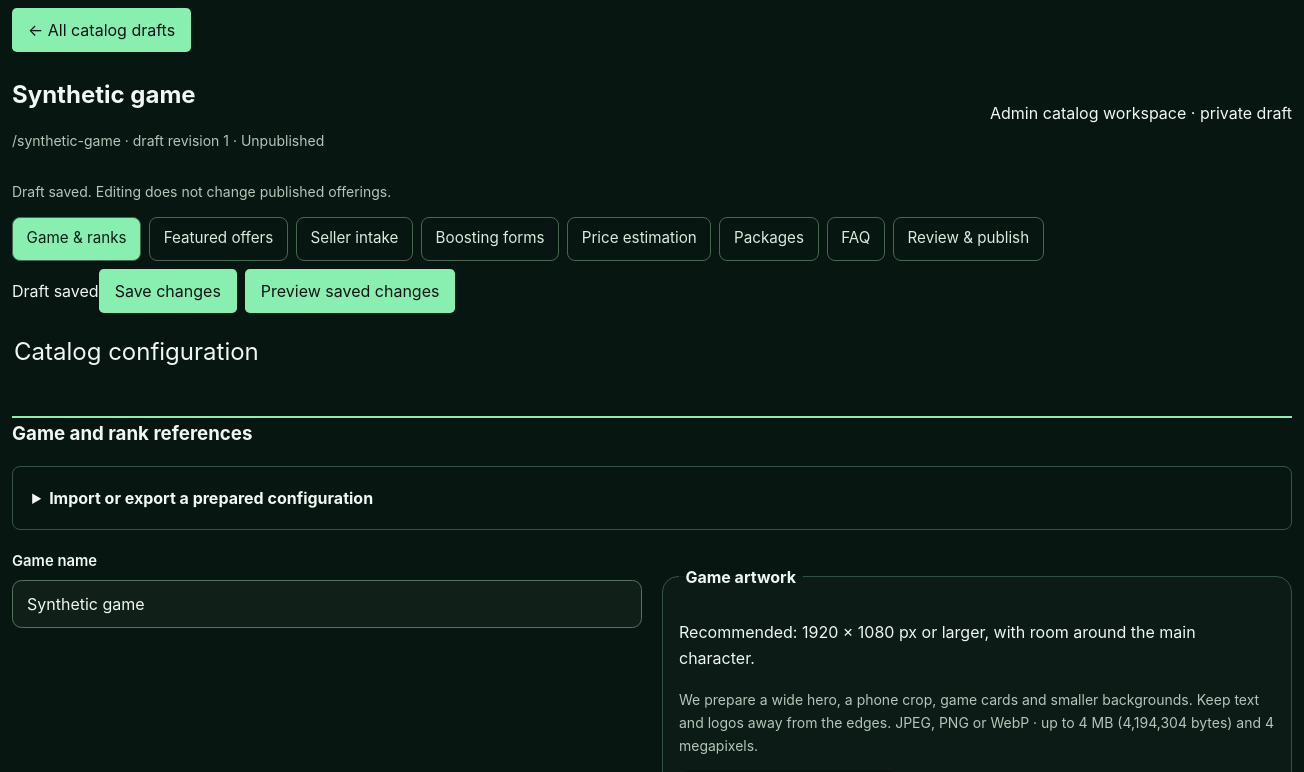
Test: focuses a failed save result while retaining the exact section and draft
Step 1. Replace the text in the field labelled "Game name" with "Retain this draft" → [327, 604], box [12,580,642,628]
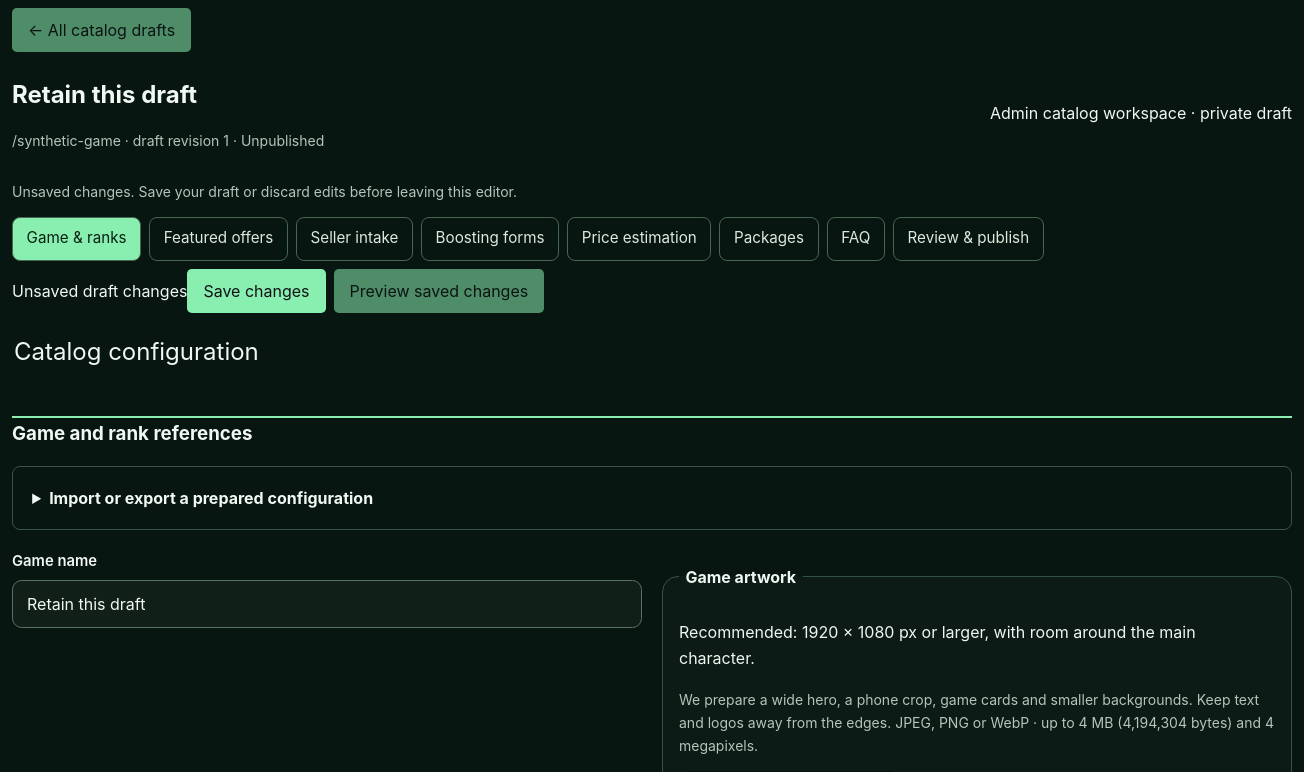
Step 2. Click the link "Price estimation" → [639, 239], box [567,217,711,261]
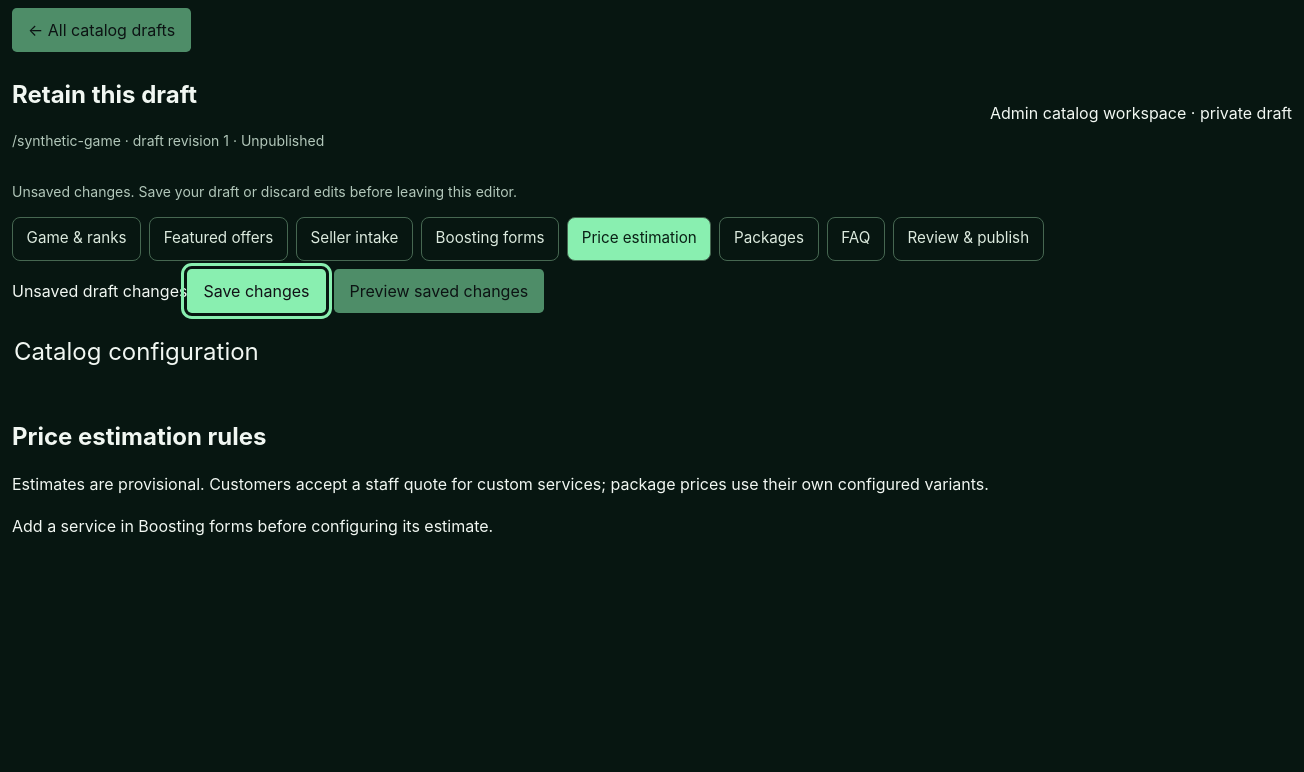
Step 3. Click the button "Save changes" → [256, 291], box [187,269,326,313]
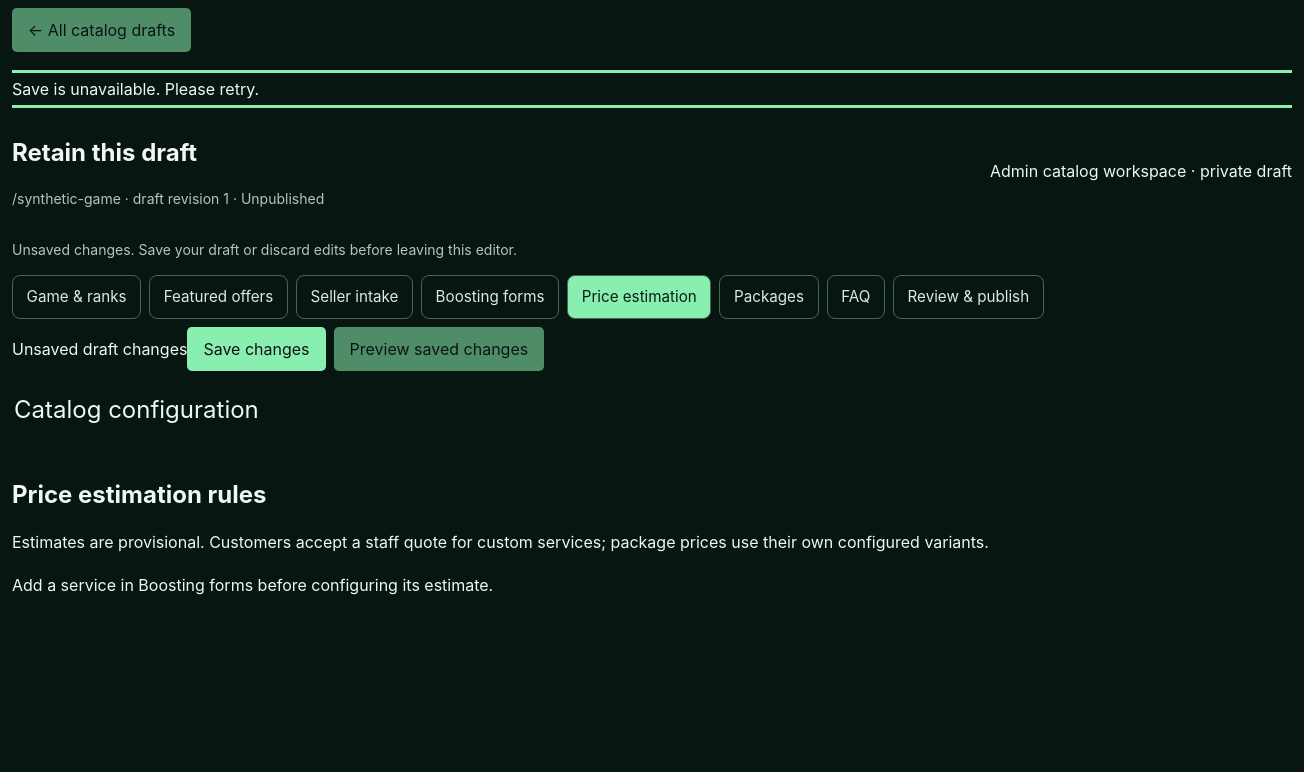
Expected: the button "Save changes" is enabled, [187,327,326,371]
Expected: the text "Unsaved draft changes" is shown, [12,339,187,359]
Expected: the message "Save is unavailable. Please retry." is shown, [12,79,259,99]
